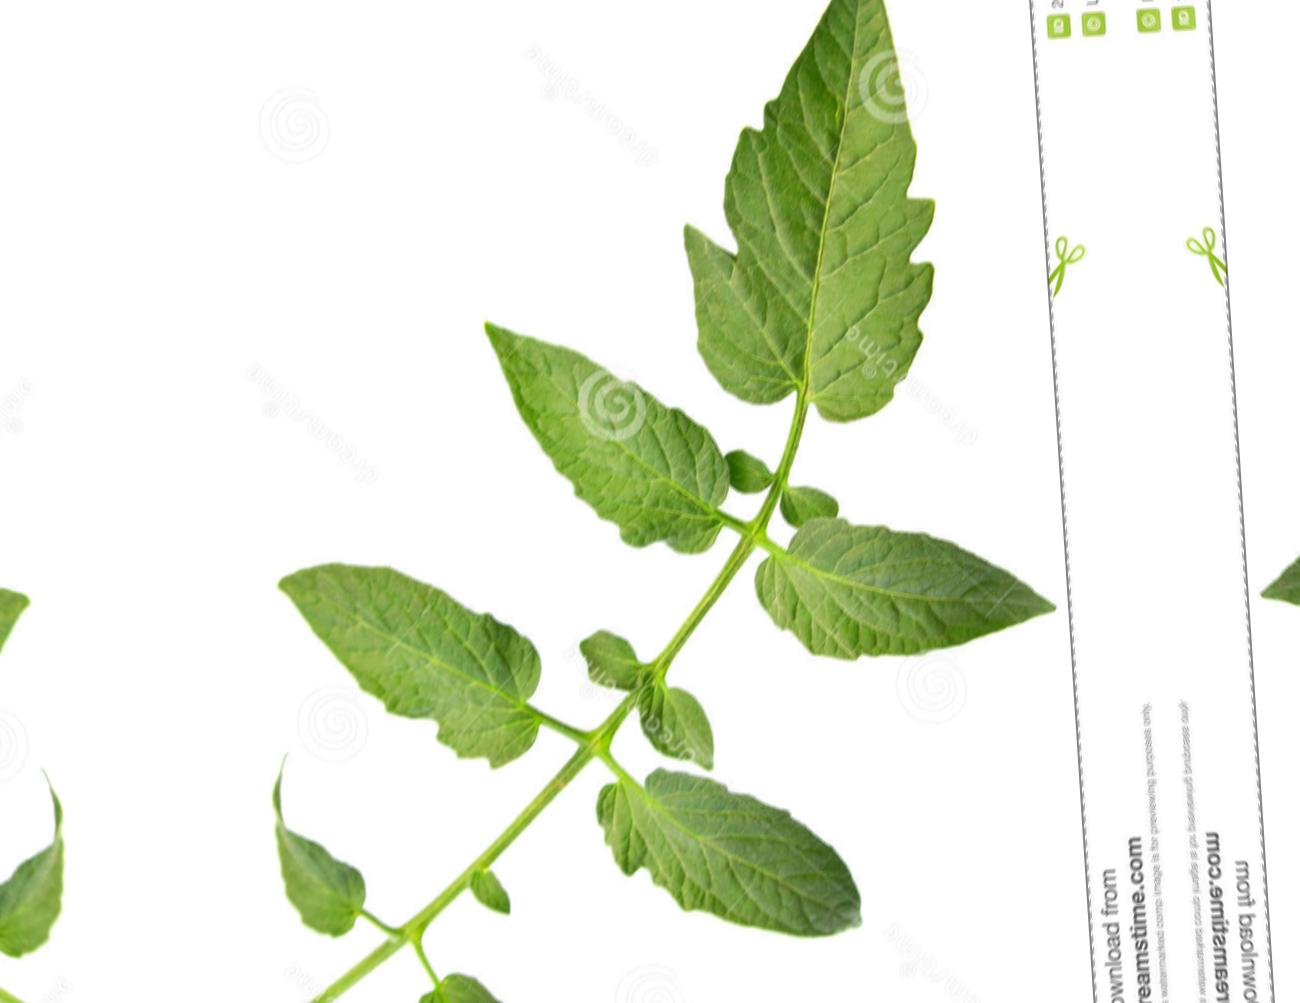Tomato leaf: (639, 0, 1018, 420), (239, 496, 584, 839), (727, 420, 1067, 732), (467, 272, 756, 560), (578, 736, 891, 1003), (235, 750, 401, 946), (400, 946, 599, 1003)
